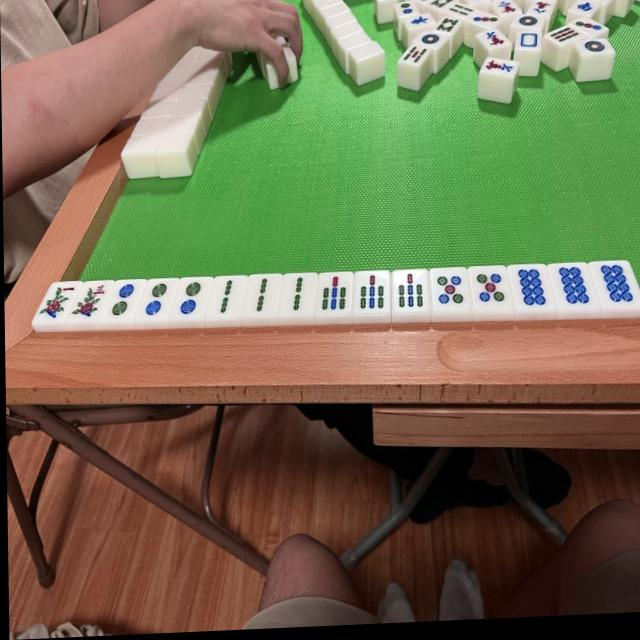1S: (39, 280, 75, 321)
2B: (284, 273, 311, 317), (213, 277, 239, 321), (248, 276, 273, 317)
2D: (176, 278, 204, 324), (143, 280, 168, 322), (111, 281, 135, 321)
3S: (75, 281, 108, 324)
5D: (475, 266, 506, 308), (434, 269, 466, 308)
7B: (394, 270, 426, 313), (356, 270, 387, 314), (318, 271, 348, 314)
8D: (556, 263, 590, 310), (516, 265, 551, 309), (600, 261, 632, 307)
